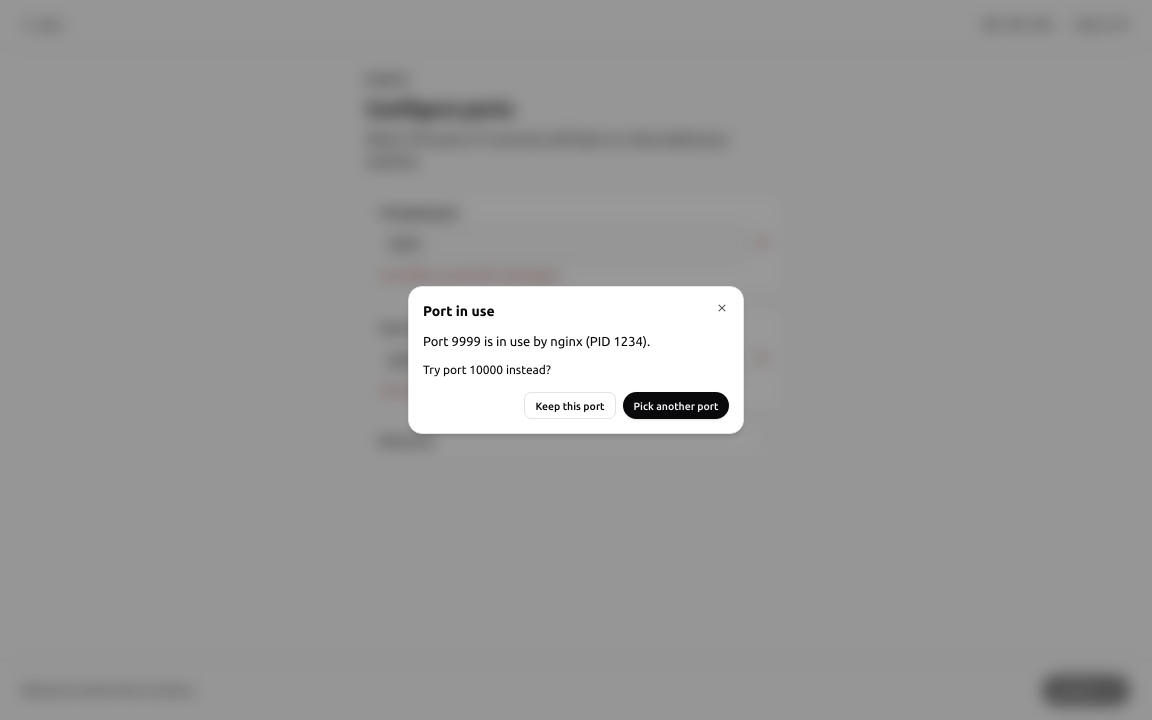
Test: ports/+page.svelte › 'Keep this port' button closes the collision modal
Expected: the element with test id "port-collision-modal" is shown, [423,333,729,419]
Step 1. Click the button "Keep this port" → {"x": 570, "y": 406}, box [524,392,616,419]
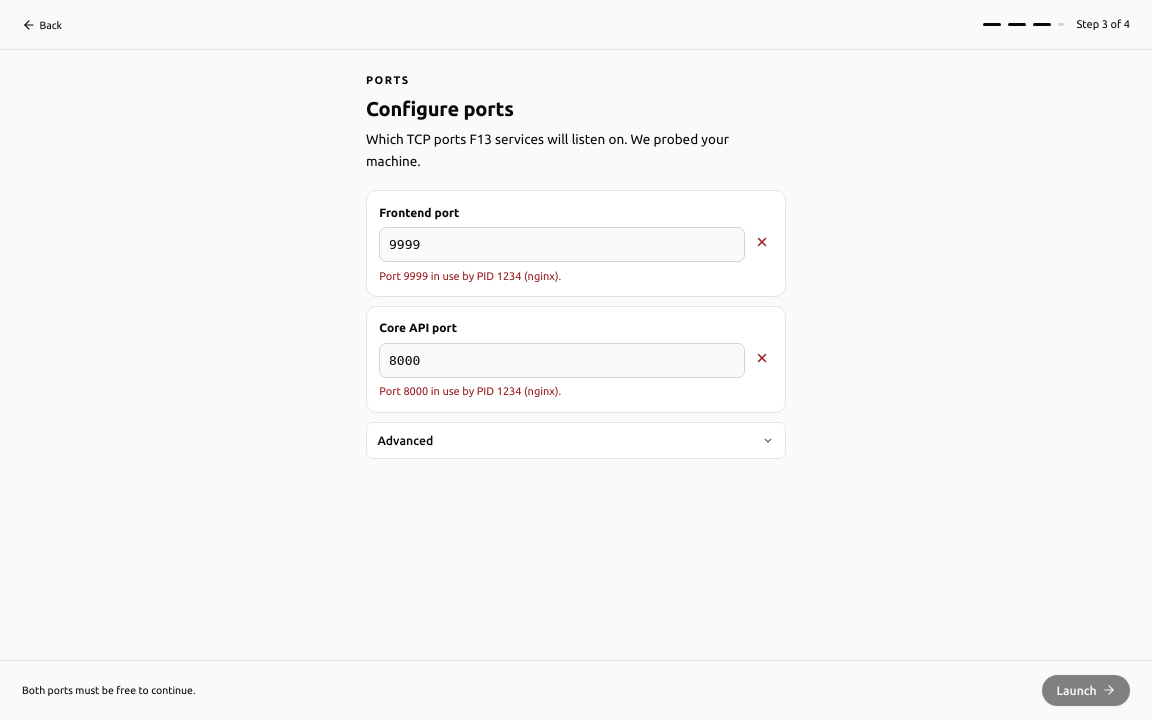
Now the element with test id "port-collision-modal" is gone
